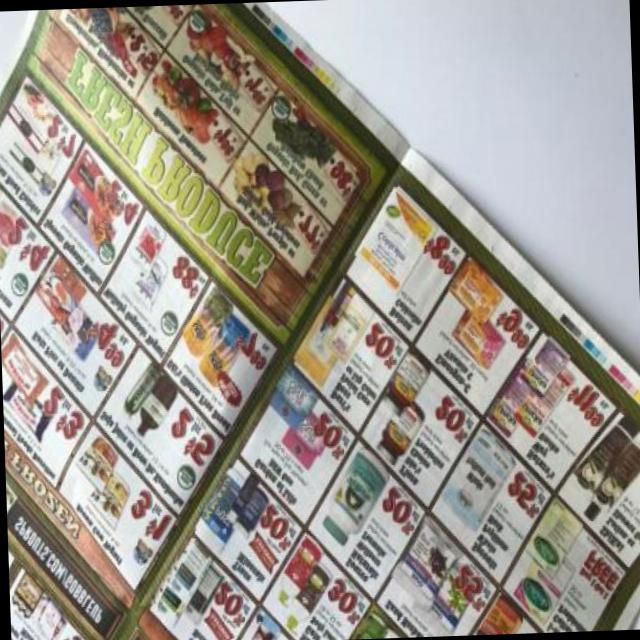cardboard paper: (0, 2, 640, 640)
